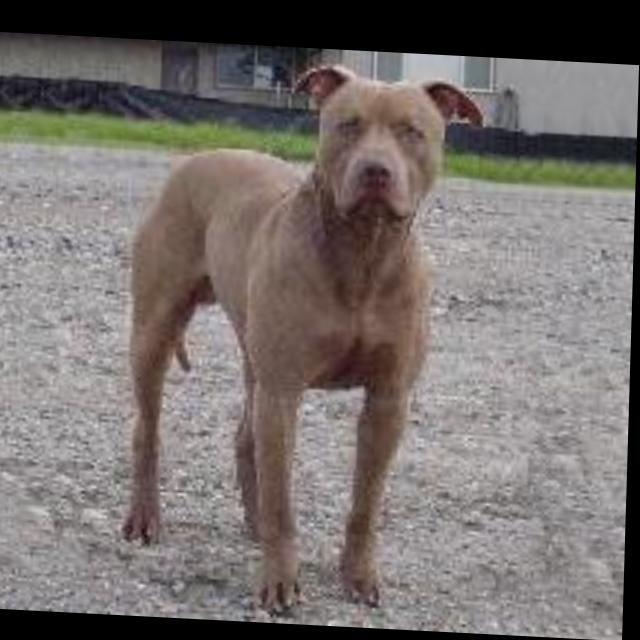staffford: (124, 50, 489, 619)
